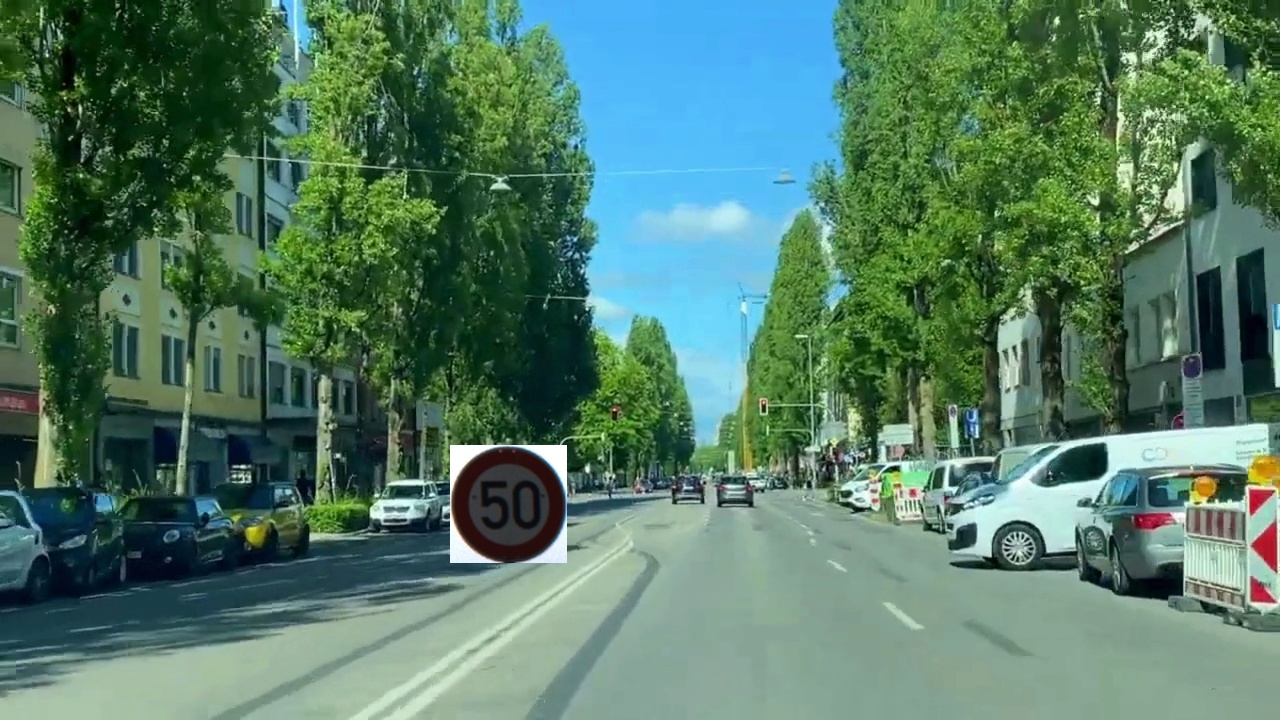Speed 50: (450, 445, 567, 563)
